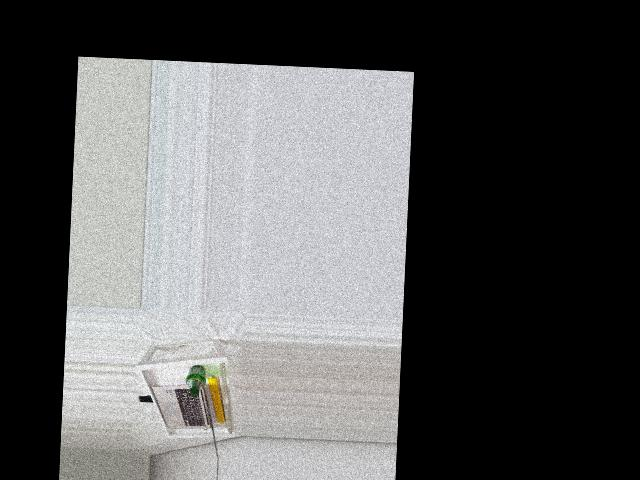beer: (185, 364, 206, 396)
